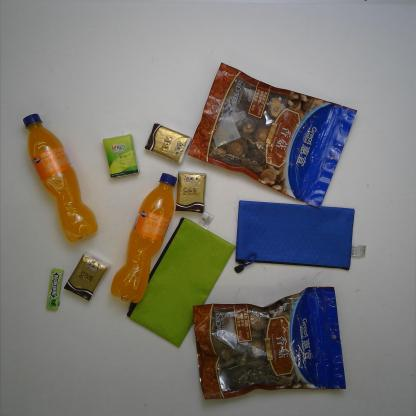Dried Food: (187, 63, 358, 209), (193, 286, 346, 400)
Drink: (23, 113, 98, 242), (112, 172, 176, 304)
Gum: (46, 268, 65, 311)
Stationery: (126, 214, 236, 348), (233, 200, 366, 274)
Tissue: (63, 252, 110, 300), (144, 124, 192, 164), (102, 134, 139, 178), (174, 171, 207, 214)
